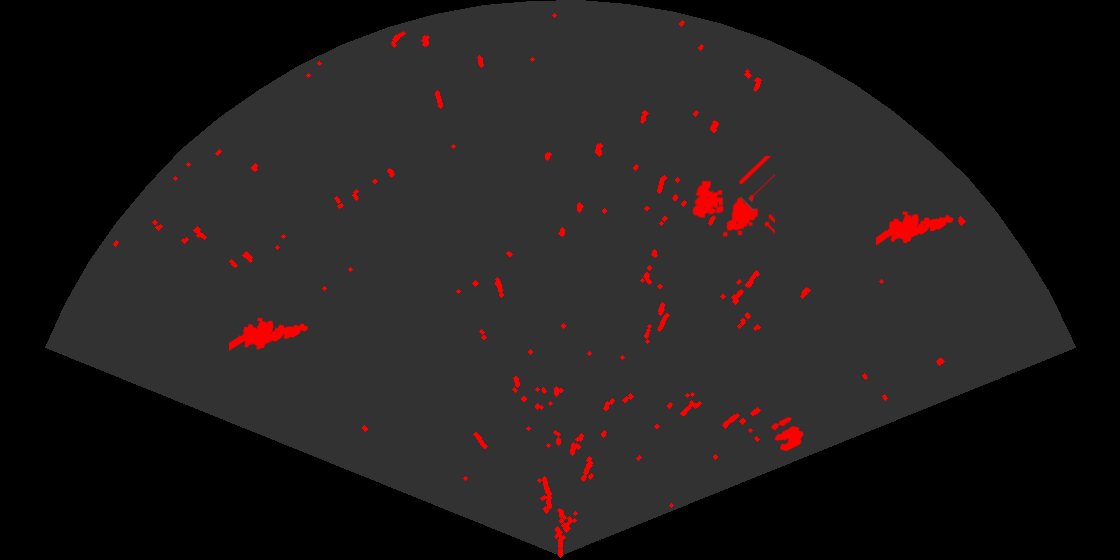ball: (769, 415, 805, 453)
cage: (691, 156, 775, 239)
frogman: (876, 209, 955, 247), (229, 316, 309, 352)
